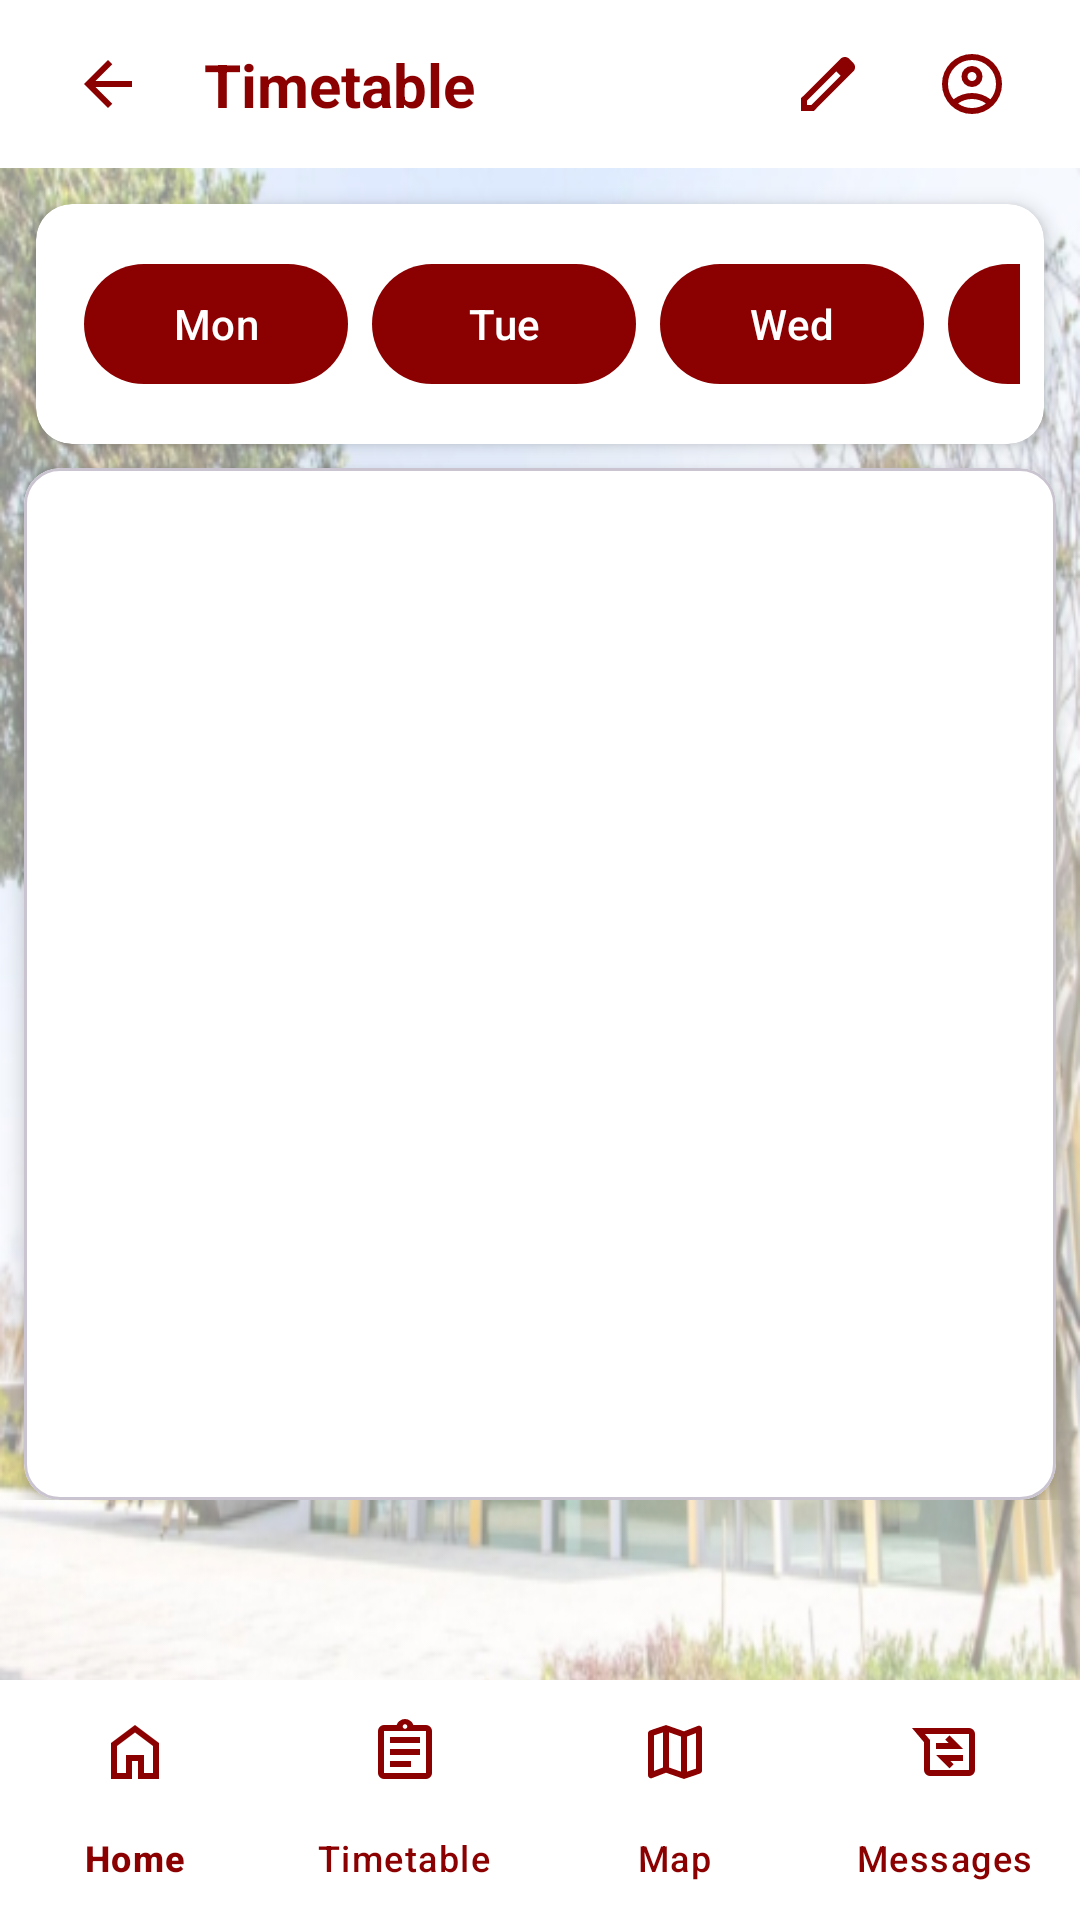

Icons on this 1080x1920 Android screen, each with its box as (x1,y1,x2,y2):
account circle: (942,54,1002,114)
arrow back: (84,60,132,108)
edit: (801,57,855,111)
